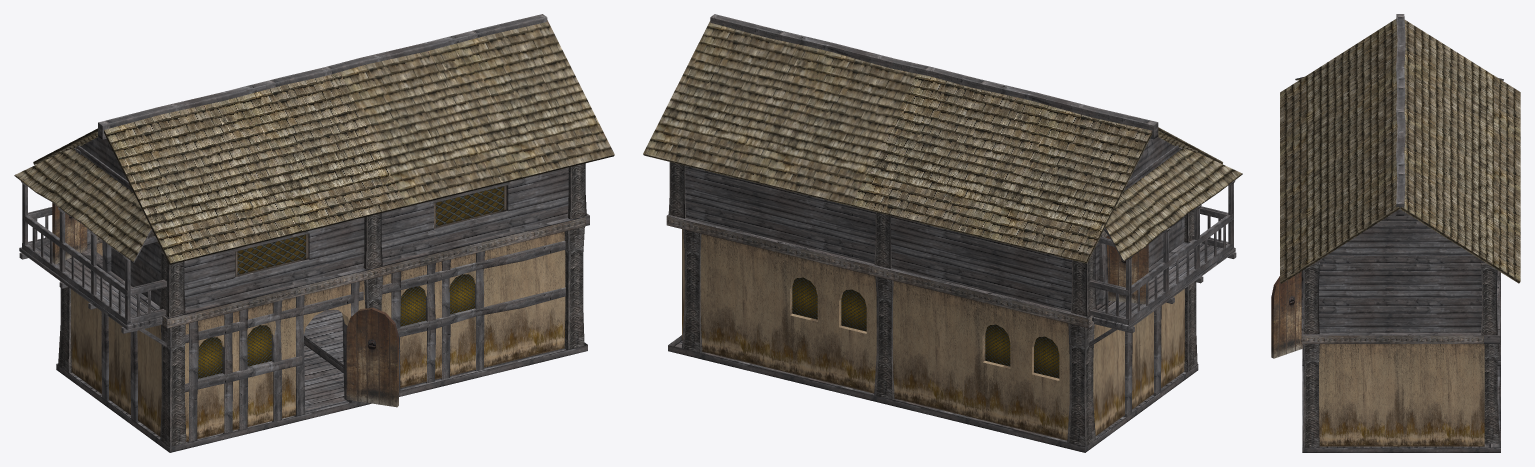
The model's file is v3_house6_LOD1.dae.
The picture shows the model from 3 angles, left to right: view 1: azimuth 30°, elevation 25°; view 2: azimuth 150°, elevation 25°; view 3: azimuth 270°, elevation 25°; orthographic projection. The views are drawn at different scales.
Parts seen in each view (by area): view 1: roof_01, WoodPlanks, bricks_old_03, WoodPlanks_ornaments, windows2_c, dorwindow_set; view 2: roof_01, bricks_old_03, WoodPlanks, WoodPlanks_ornaments, windows2_c, dorwindow_set; view 3: roof_01, WoodPlanks, bricks_old_03, WoodPlanks_ornaments, dorwindow_set.
Boxes of the visible parts, x1=… form: roof_01: x1=14, y1=20, x2=614, y2=264; WoodPlanks: x1=15, y1=14, x2=587, y2=452; bricks_old_03: x1=71, y1=231, x2=565, y2=441; WoodPlanks_ornaments: x1=58, y1=163, x2=589, y2=446; windows2_c: x1=198, y1=185, x2=507, y2=378; dorwindow_set: x1=52, y1=202, x2=398, y2=407; roof_01: x1=643, y1=21, x2=1242, y2=263; bricks_old_03: x1=682, y1=229, x2=1184, y2=440; WoodPlanks: x1=668, y1=14, x2=1242, y2=452; WoodPlanks_ornaments: x1=666, y1=162, x2=1197, y2=446; windows2_c: x1=792, y1=277, x2=1059, y2=378; dorwindow_set: x1=1106, y1=236, x2=1148, y2=304; roof_01: x1=1280, y1=19, x2=1520, y2=283; WoodPlanks: x1=1295, y1=14, x2=1503, y2=452; bricks_old_03: x1=1319, y1=344, x2=1484, y2=446; WoodPlanks_ornaments: x1=1301, y1=262, x2=1500, y2=447; dorwindow_set: x1=1271, y1=271, x2=1302, y2=358.
Bounding box in the file's own units: 9.71 × 5.7 × 5.05.
